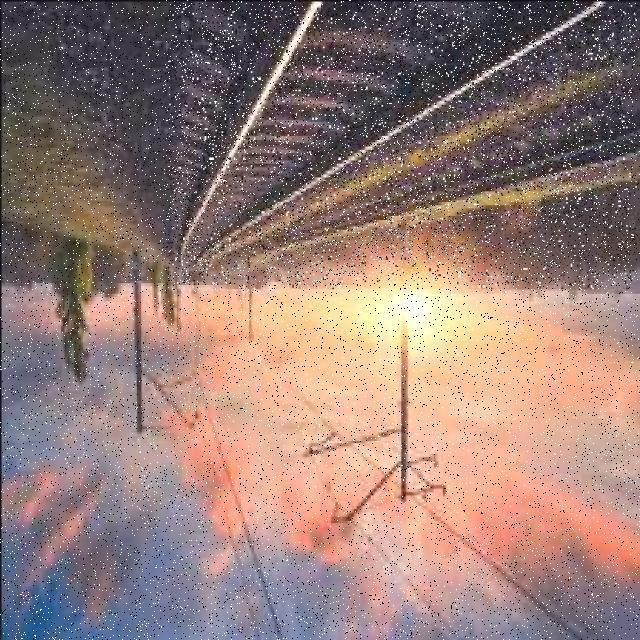rail: (166, 5, 635, 286)
